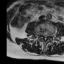CCS_normal: (44, 32, 46, 42)
LFS_severe_stenosis: (48, 33, 50, 38)
LLS_severe_stenosis: (46, 33, 48, 39)
RFS_severe_stenosis: (40, 32, 42, 37)
RLS_severe_stenosis: (42, 34, 44, 39)
